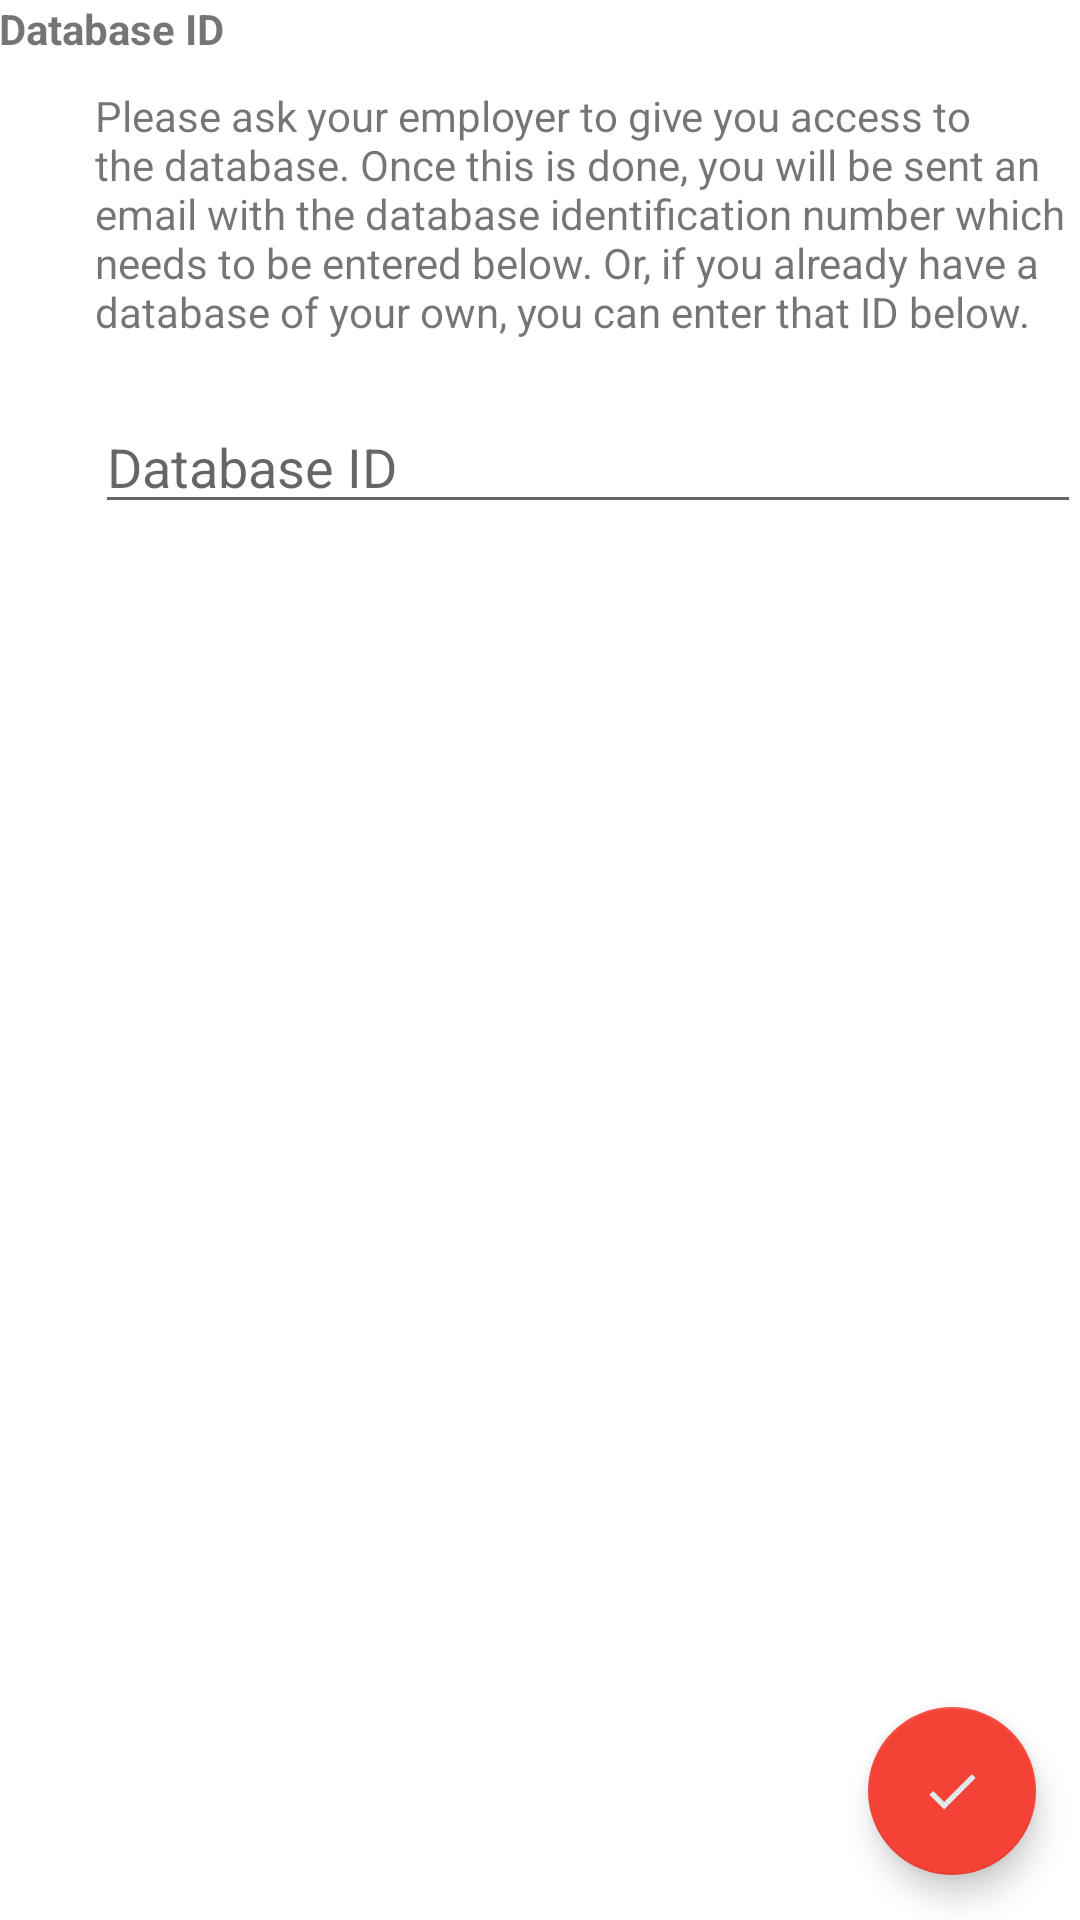

Screen size 1080*1920. Icon name, then its center in pixels as point (x, y):
check mark: point (952, 1791)
